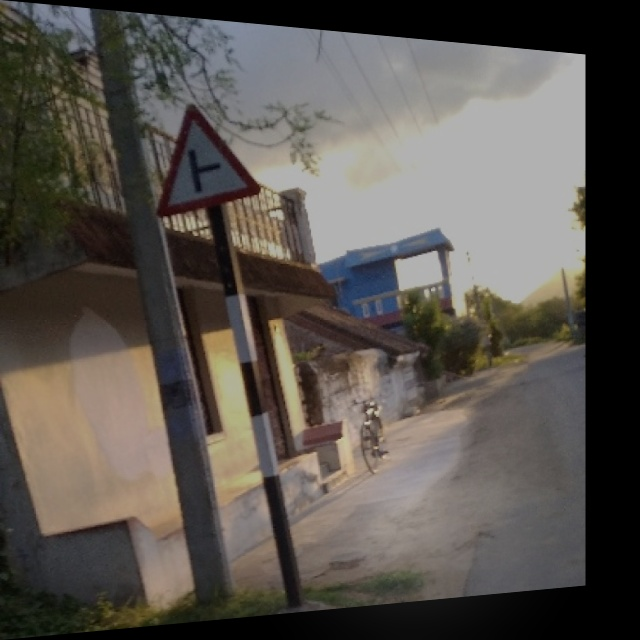Side_Road_Right: (146, 99, 264, 221)
